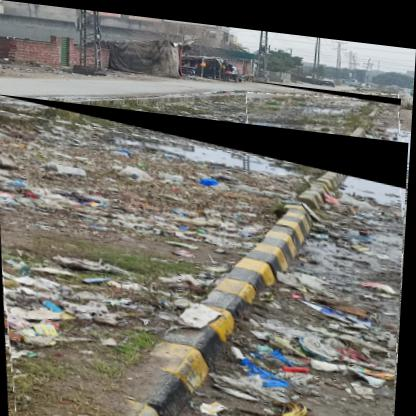Garbage: (1, 95, 412, 416), (247, 75, 404, 147)
